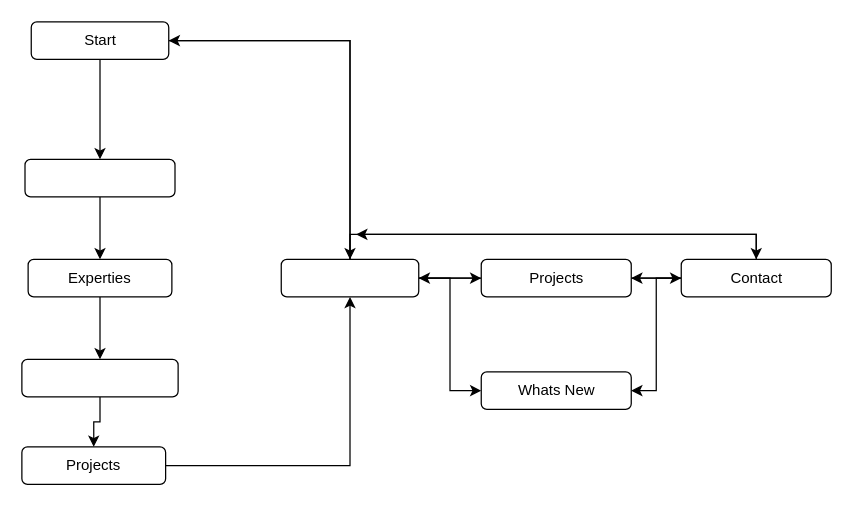
Image size: 854x506. Some labels were removed from this diagram. The centre of each missing label's shape, as x and y in pixels:
"Biography" goes at (x=99, y=177).
"Experience" goes at (x=99, y=377).
"Home" goes at (x=349, y=277).
